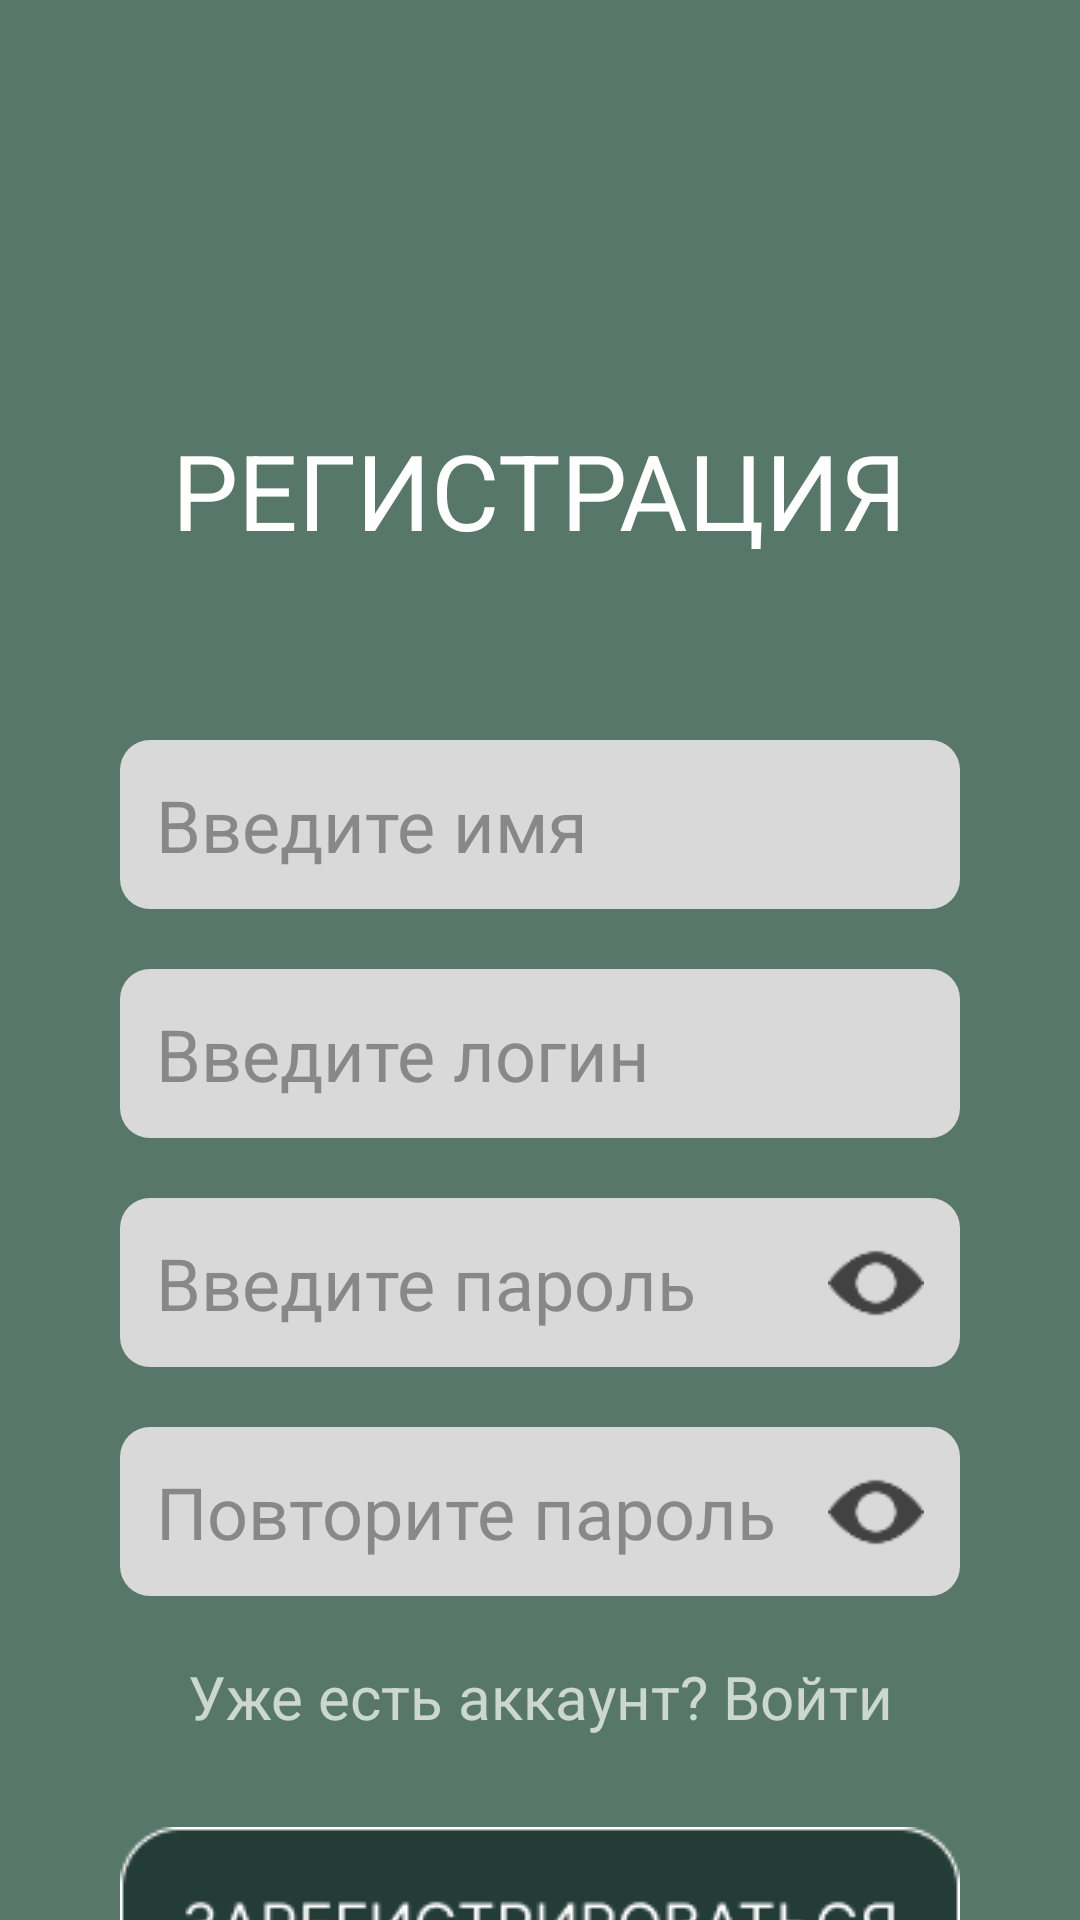

Icon click points for this 1080px x 1920px phone screenshot, format (x=x, y=y):
Показать пароль: (x=876, y=1283), (x=876, y=1512)
